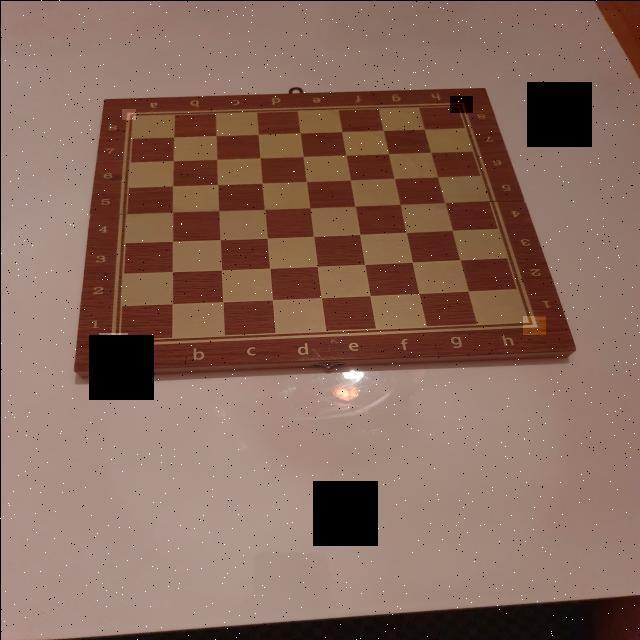chess-table-corners: (98, 332, 127, 352), (522, 315, 545, 334), (449, 95, 472, 112), (121, 108, 135, 119)
